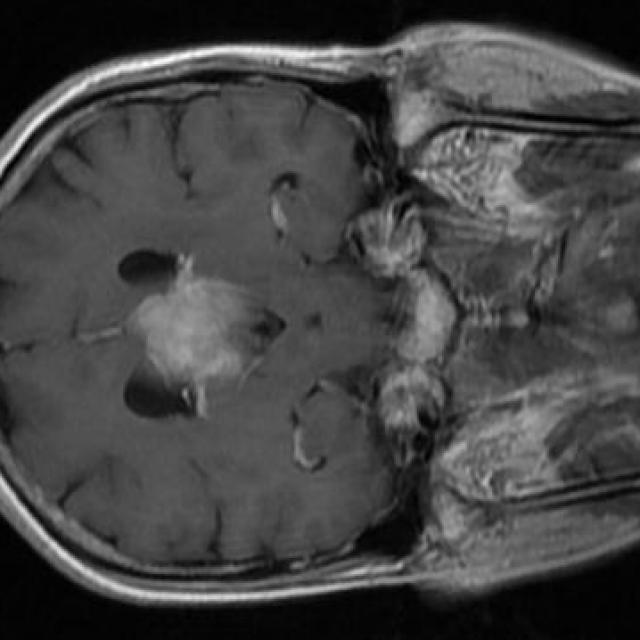meningioma: (127, 255, 246, 419)
